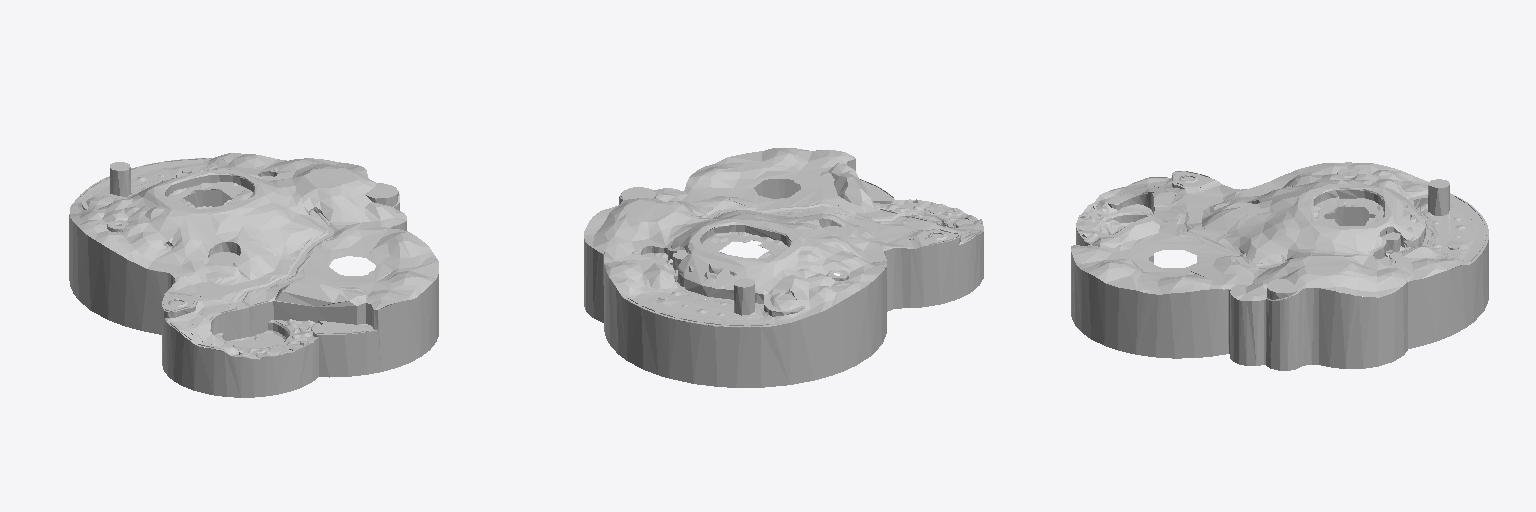
Rendered from PeachWorldKCL.obj.
The picture shows the model from 3 angles: view 1: azimuth 30°, elevation 25°; view 2: azimuth 150°, elevation 25°; view 3: azimuth 270°, elevation 25°; orthographic projection.
Visible parts, largest first — view 1: polySurface1605_10__FenceWood01; view 2: polySurface1605_10__FenceWood01; view 3: polySurface1605_10__FenceWood01.
Part boxes in pixels (x1,y1,x2,y2): polySurface1605_10__FenceWood01: (69, 153, 438, 397); polySurface1605_10__FenceWood01: (584, 148, 983, 387); polySurface1605_10__FenceWood01: (1071, 162, 1488, 370).
Size of the model in its own units: 30588 by 9112 by 38406.